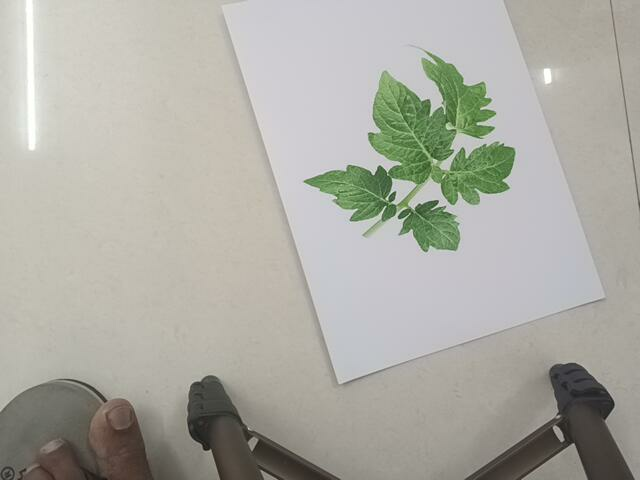Tomamto_Leaf_Healthy: (302, 48, 518, 258)
